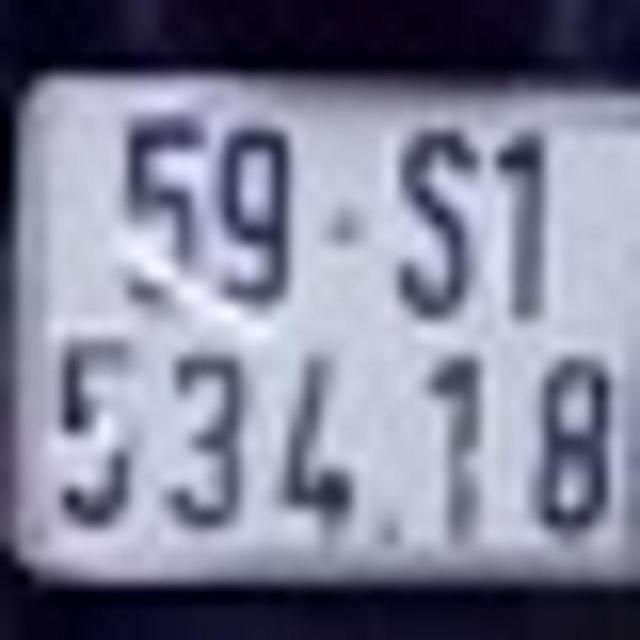1: (493, 127, 550, 324), (428, 351, 482, 553)
3: (167, 352, 244, 528)
4: (280, 354, 359, 548)
5: (123, 118, 207, 310), (59, 334, 135, 528)
8: (534, 353, 614, 536)
9: (216, 126, 292, 310)
S: (387, 117, 481, 326)
